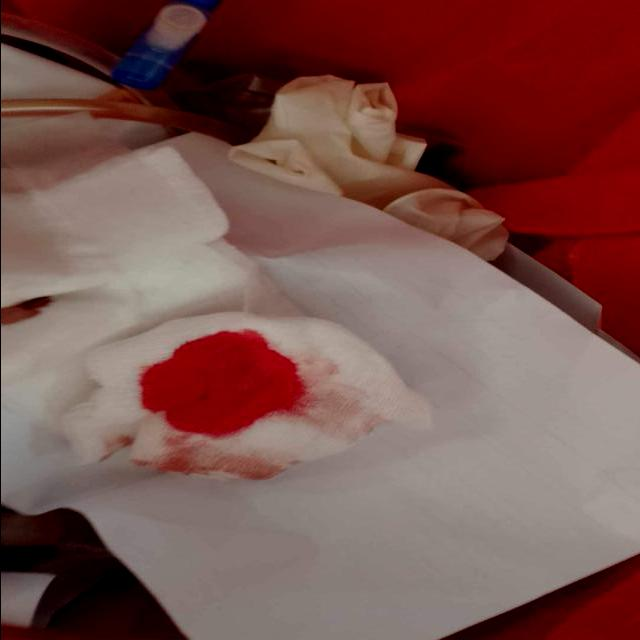General: (3, 3, 639, 637)
Infectious: (60, 310, 433, 481)
Sharps: (3, 92, 469, 161), (109, 0, 223, 92), (395, 125, 470, 159)
